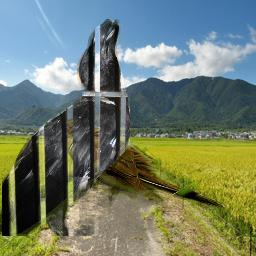Crow: (2, 19, 130, 236)
Cuckoo: (48, 117, 228, 210)
